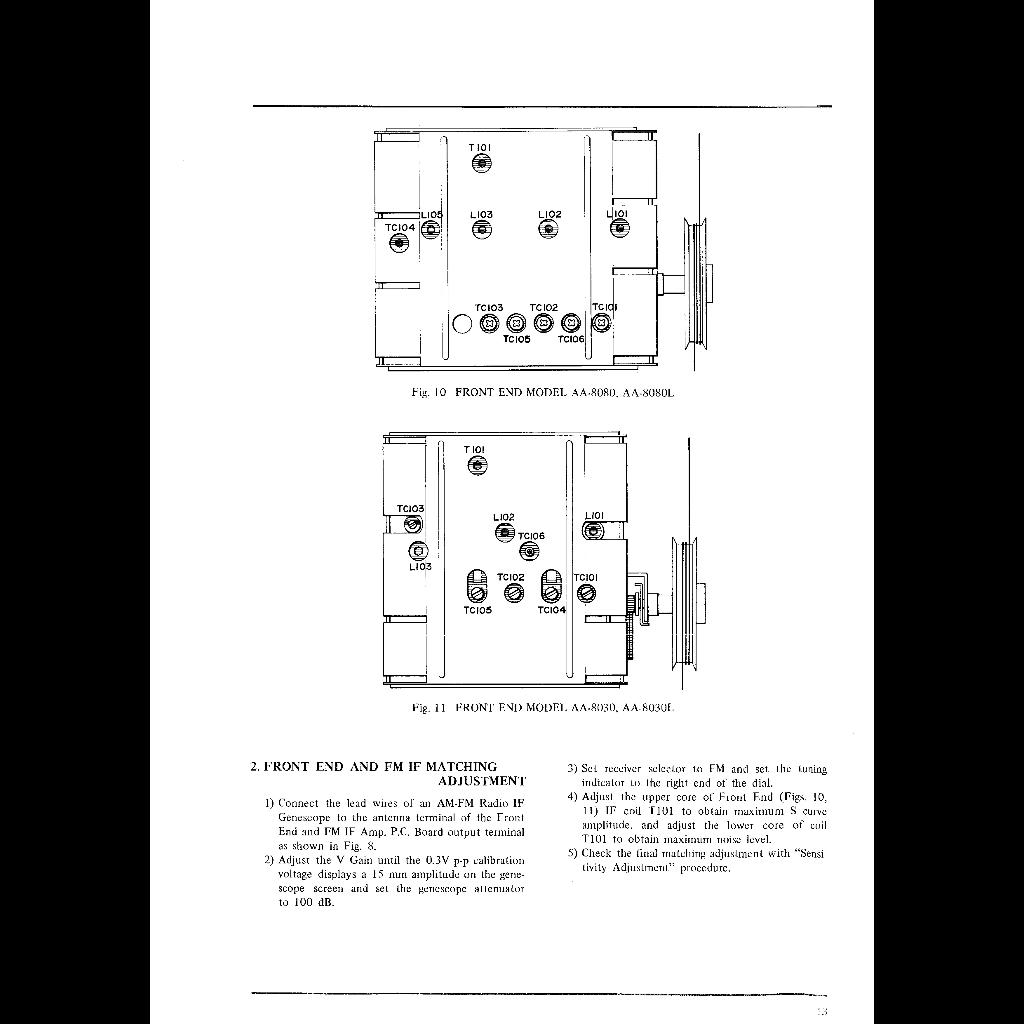Board: (354, 425, 726, 723), (362, 110, 728, 408)
